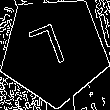L_S: (31, 21, 77, 79)
